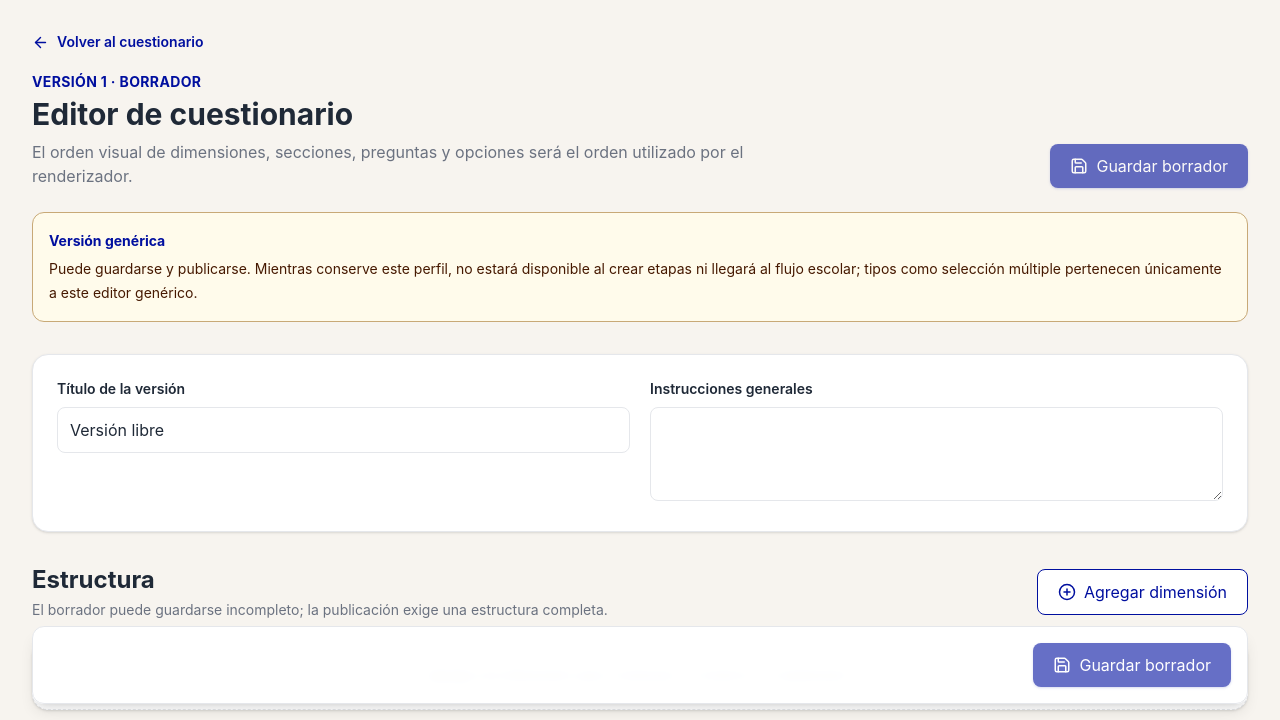
Test: SurveyVersionEditorPage profiles › mantiene los cambios locales y explica un conflicto de edición
Replace the text in the field labelled "Título de la versión" with "Mi edición local": coordinates (344, 430) [57,407,630,453]
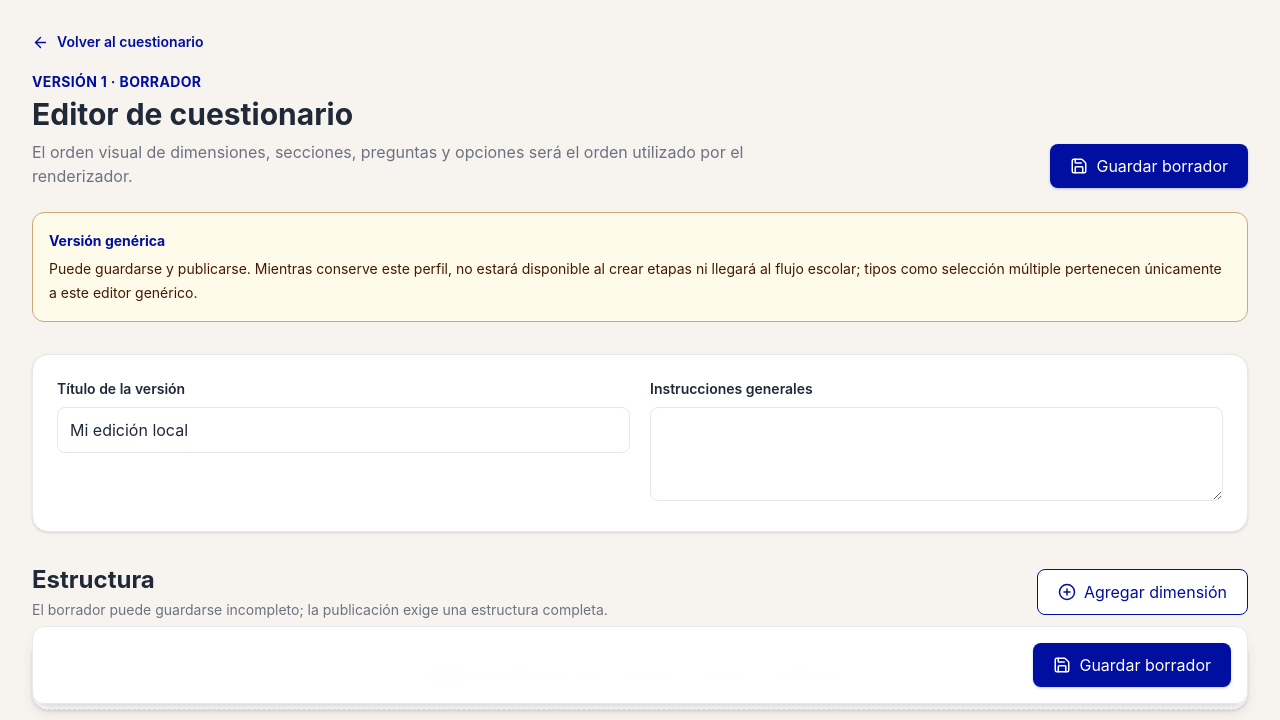
Click the 1st button "Guardar borrador": coordinates (1149, 166) [1050,144,1248,188]
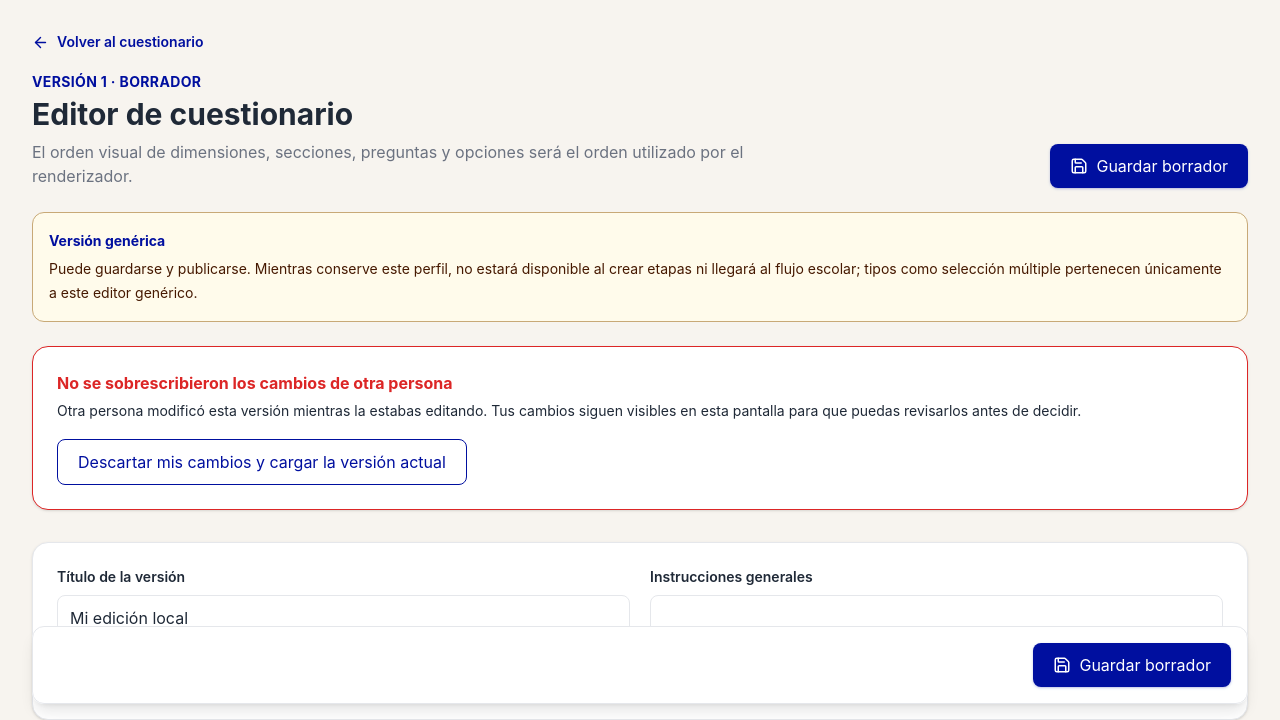
Expected: the text "No se sobrescribieron los cambios de otra persona" is shown, [57,373,452,393]
Expected: the button "Descartar mis cambios y cargar la versión actual" is shown, [57,439,467,485]
